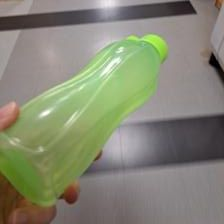bottle: (0, 31, 171, 205)
